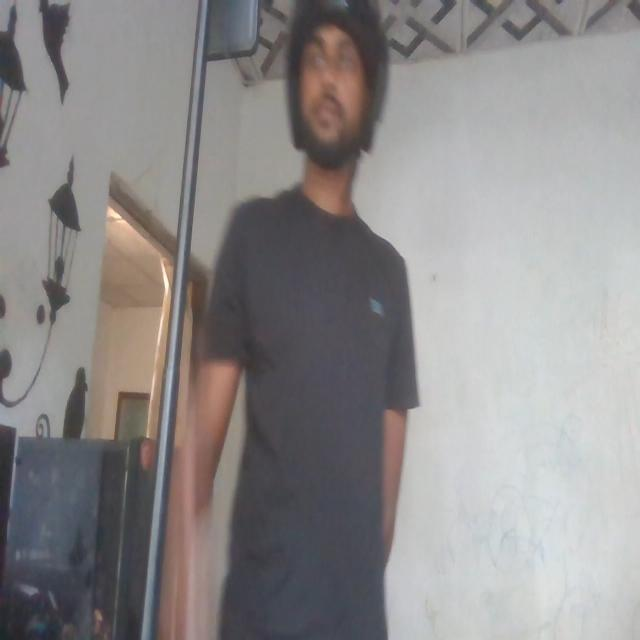Helmet_Wearer: (280, 0, 404, 220)
Person: (196, 2, 426, 640)
